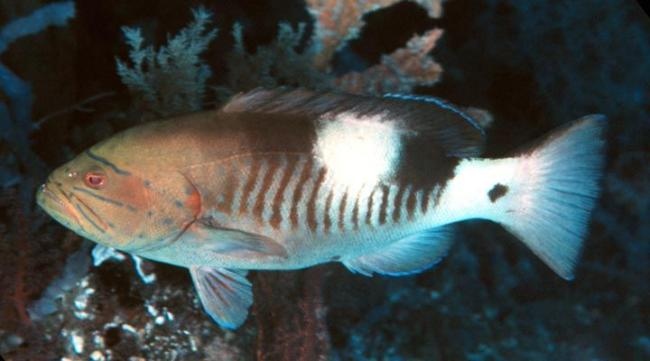fish: (37, 85, 609, 330)
